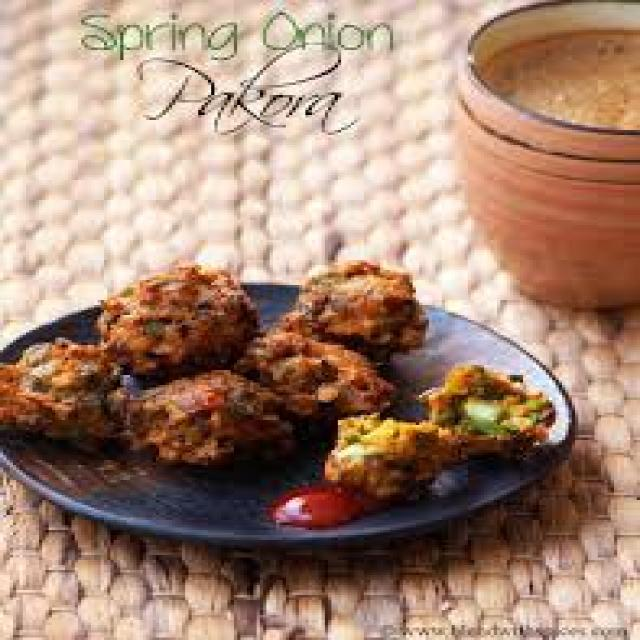BAJI: (94, 256, 248, 385), (128, 366, 290, 467), (3, 341, 119, 453), (235, 331, 374, 420), (285, 266, 432, 350), (424, 369, 546, 463), (321, 420, 440, 505)
